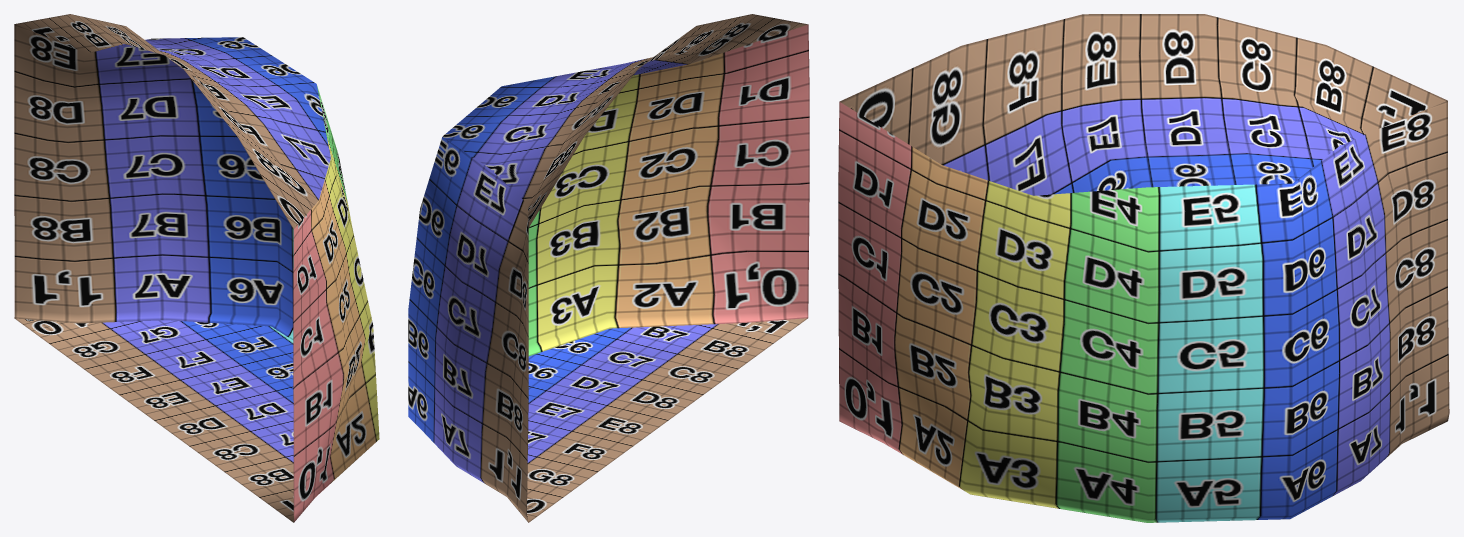
Rendered from grotte_startRight.fbx.
3 views of the same model, side by side, from view 1: azimuth 30°, elevation 25°; view 2: azimuth 150°, elevation 25°; view 3: azimuth 270°, elevation 25° (orthographic). The views are drawn at different scales.
Parts seen in each view (by area): view 1: grotte_startRight; view 2: grotte_startRight; view 3: grotte_startRight.
Boxes of the visible parts, bbox=[...] form: grotte_startRight: bbox=[14, 14, 379, 522]; grotte_startRight: bbox=[408, 14, 809, 522]; grotte_startRight: bbox=[838, 14, 1449, 522].
Size of the model in its own units: 346 by 620 by 843.
Materials: 1 (1 with a texture image).
